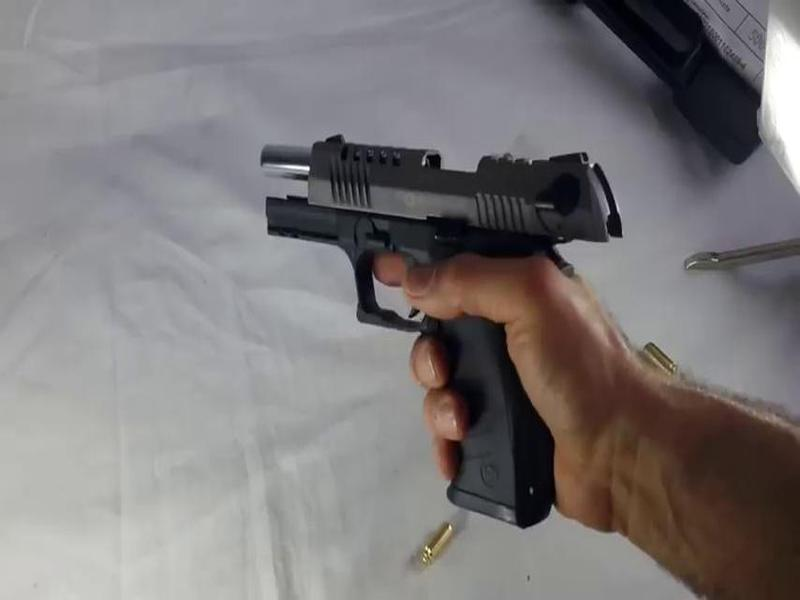Pistola: (261, 123, 633, 543)
